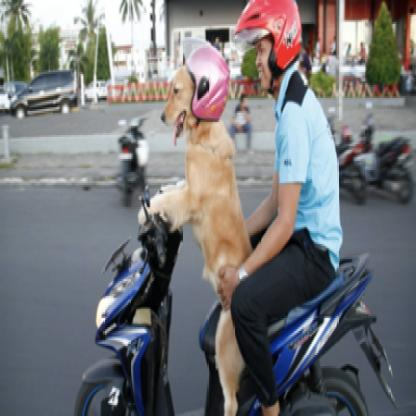With Helmet: (237, 0, 299, 94)
